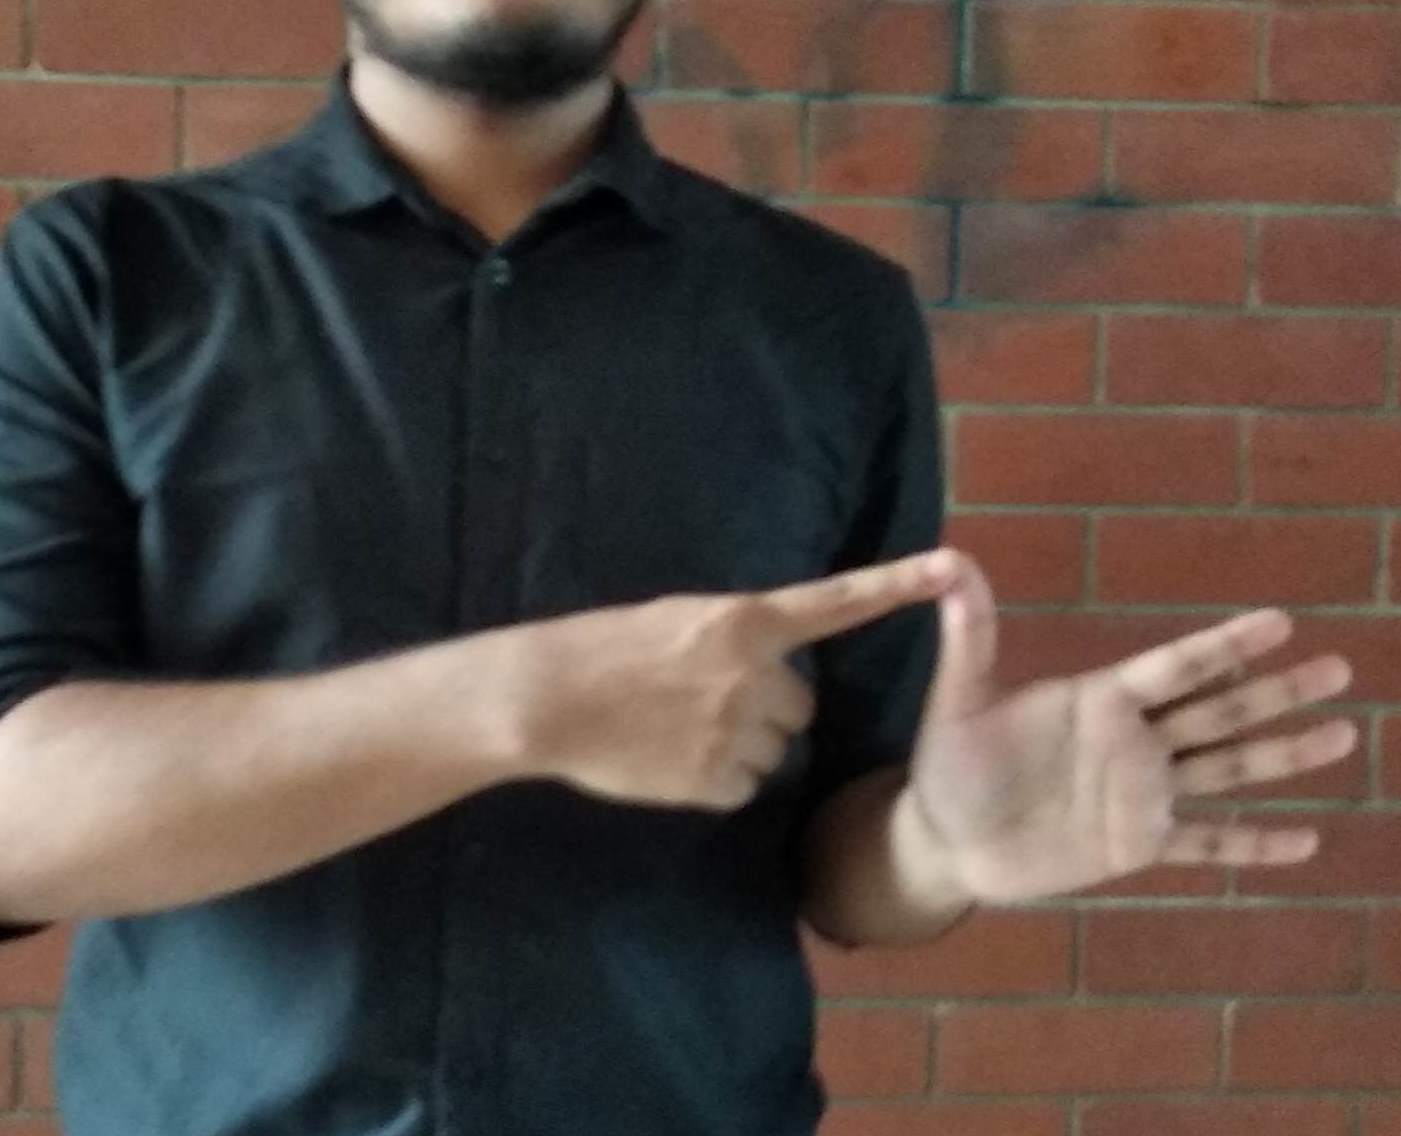e: (598, 559, 1325, 888)
